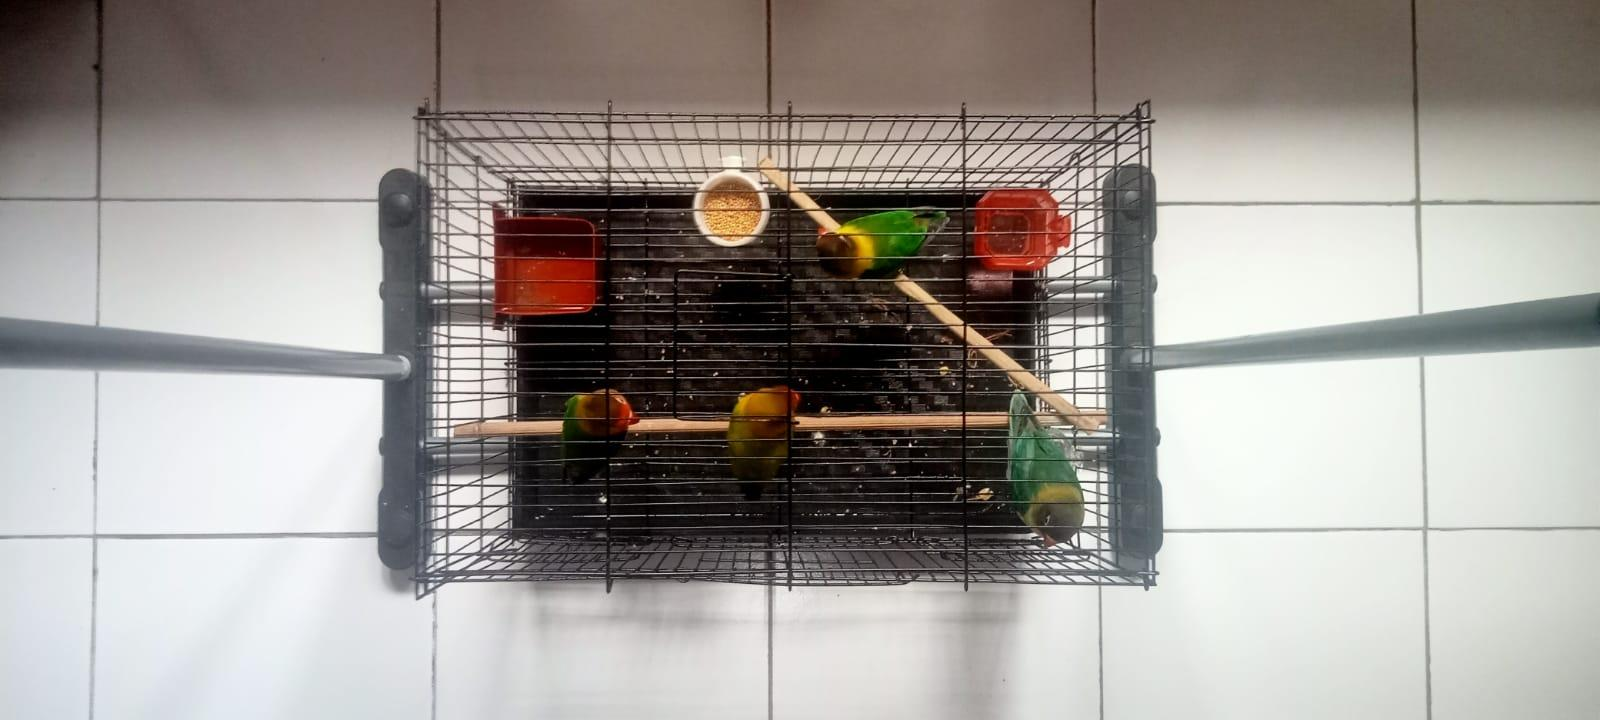LoveBird: (1005, 389, 1085, 546), (814, 206, 950, 282), (727, 385, 801, 504), (560, 389, 641, 488)
